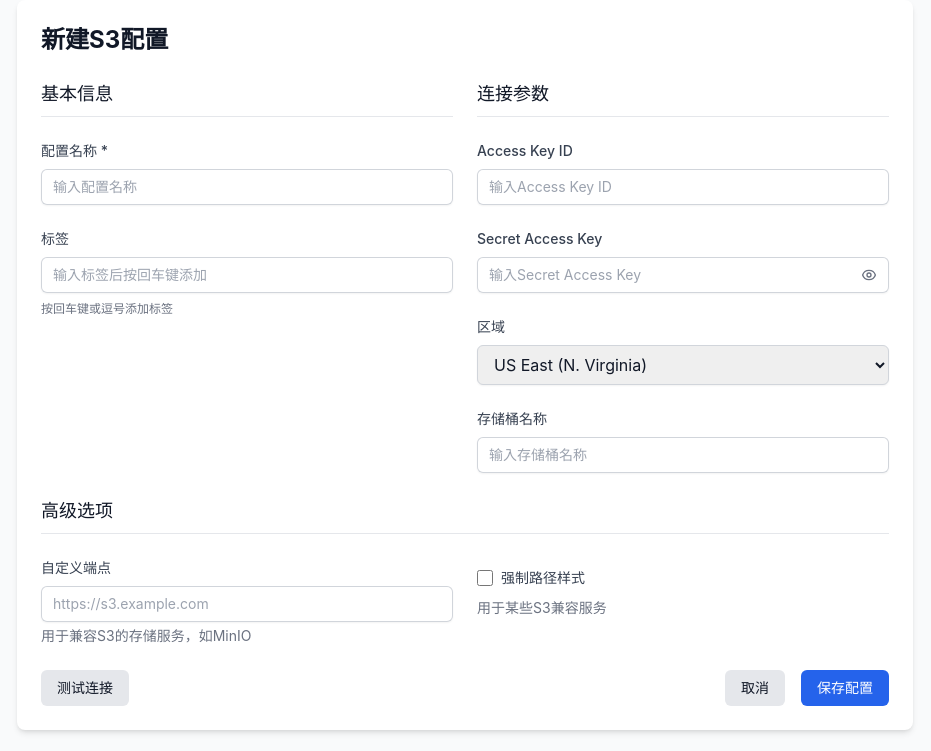
Test: ConfigForm › Tag Management › should add tags when comma is pressed
Type "staging," into the field with placeholder "输入标签后按回车键添加" at (247, 275), box [41,257,453,293]
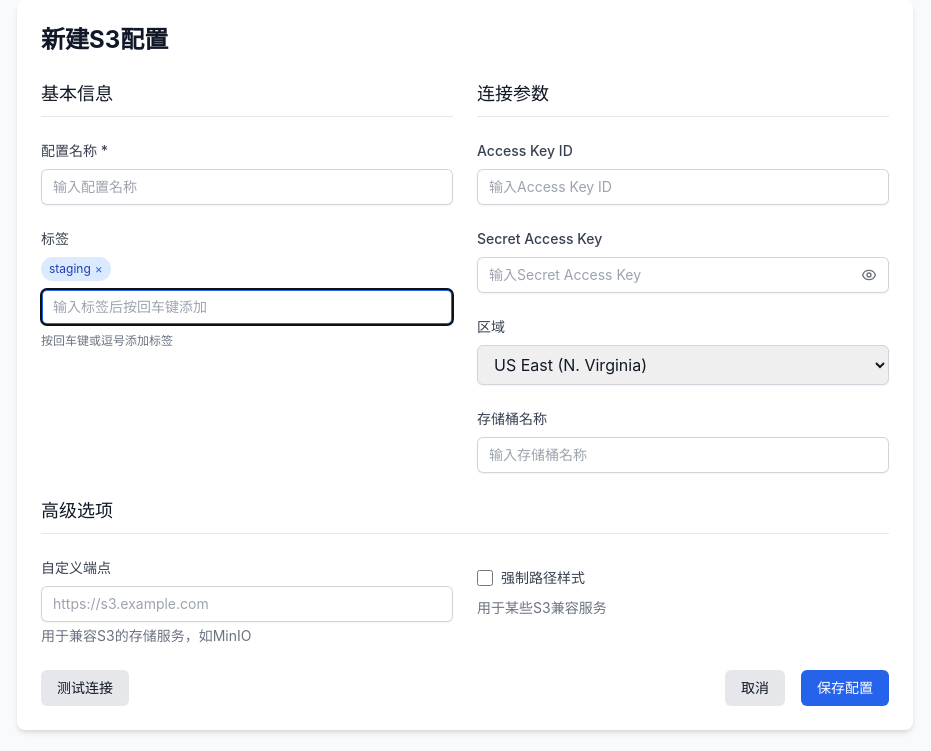
Expected: the text "staging" is shown, [49,261,91,276]
